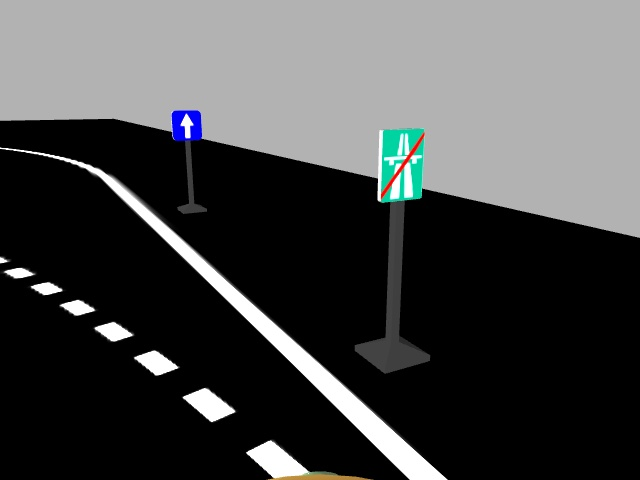HighwayExit: (378, 127, 421, 201)
OneWay: (168, 108, 202, 141)
